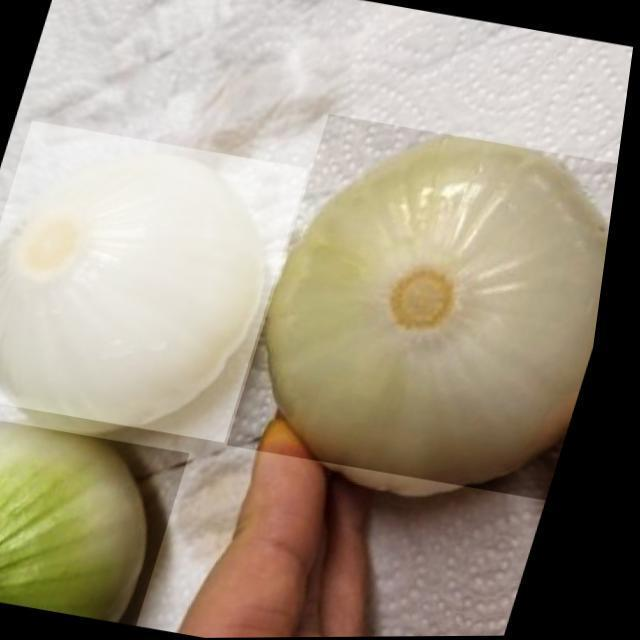Onion: (232, 112, 628, 502), (0, 118, 318, 444), (0, 406, 206, 627)
